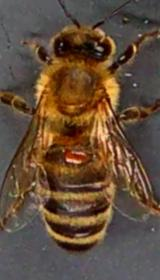varroa_mite: (62, 144, 88, 164)
